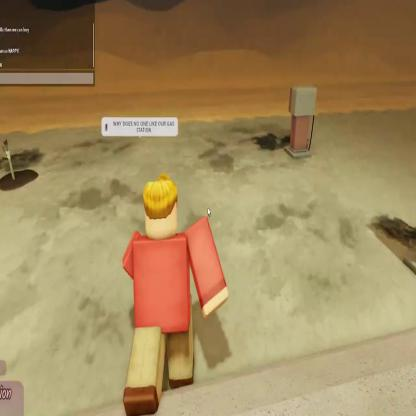Roblox-Avatar: (123, 174, 230, 416)
